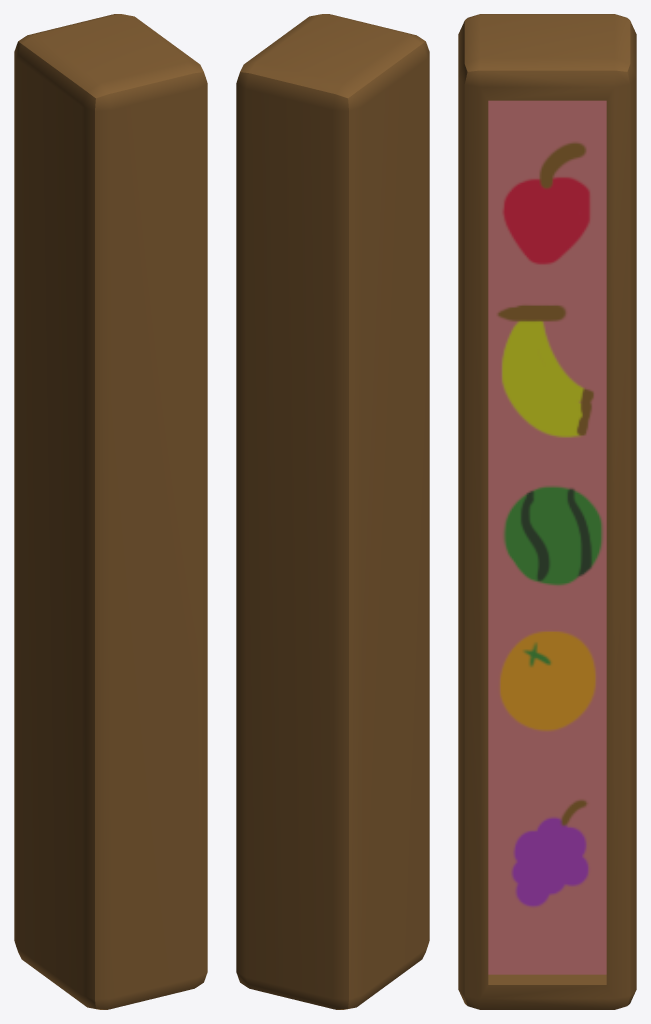
The model's file is BuildingSign_22.fbx.
3 renders of one model, left to right at view 1: azimuth 30°, elevation 25°; view 2: azimuth 150°, elevation 25°; view 3: azimuth 270°, elevation 25°, orthographic. The views are drawn at different scales.
Parts seen in each view (by area): view 1: polySurface994; view 2: polySurface994; view 3: polySurface994.
Part boxes in pixels (bbox=[...]): polySurface994: bbox=[14, 14, 207, 1009]; polySurface994: bbox=[236, 14, 429, 1009]; polySurface994: bbox=[458, 14, 636, 1009].
Bounding box in the file's own units: 0.423 × 3.03 × 0.5149.
